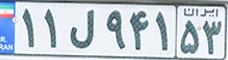character: (66, 7, 97, 52), (103, 6, 128, 53), (17, 4, 39, 51), (129, 7, 151, 54), (200, 16, 223, 57), (40, 6, 60, 53), (152, 7, 172, 54), (178, 18, 202, 56)
